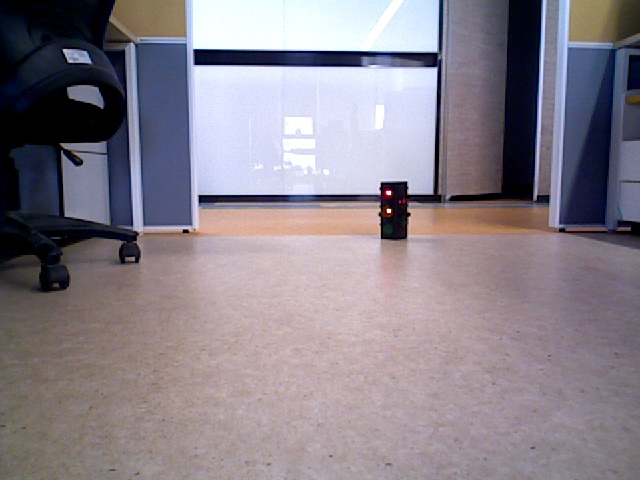red: (380, 184, 405, 236)
